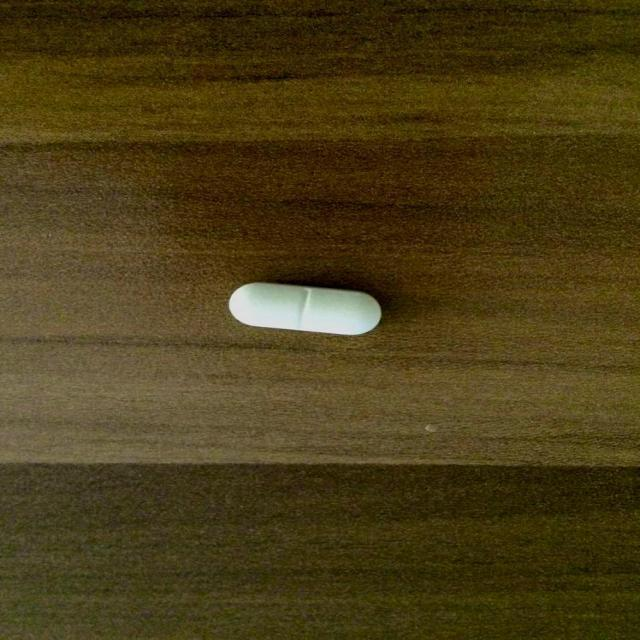pill: (228, 279, 384, 338)
